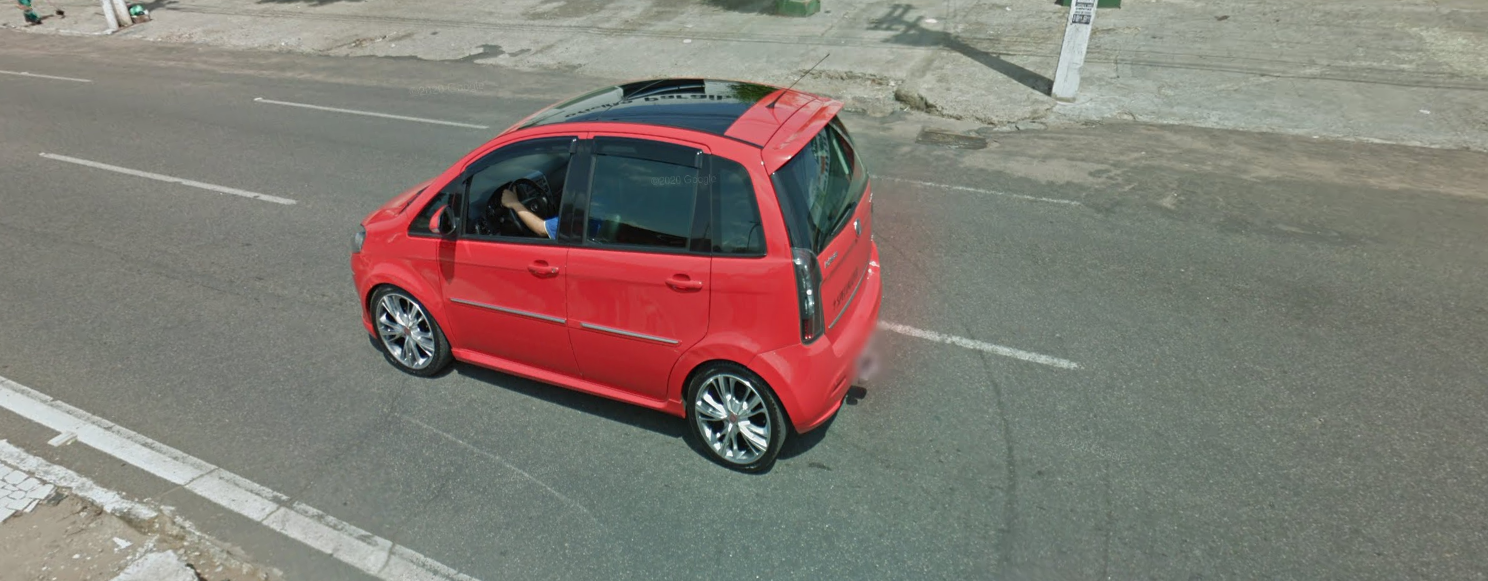car: (343, 44, 889, 489)
